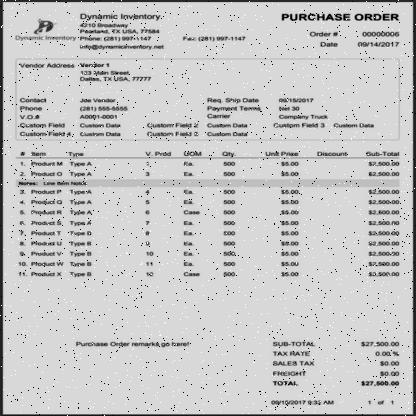Paragraph: (270, 340, 402, 388), (204, 96, 328, 138), (18, 98, 130, 140), (280, 12, 402, 50), (78, 12, 166, 51), (19, 62, 152, 82), (74, 340, 192, 348), (144, 122, 199, 138), (268, 399, 336, 406), (180, 35, 247, 42), (13, 35, 77, 42), (332, 122, 375, 128), (366, 398, 396, 406)
Table: (13, 147, 404, 280)
